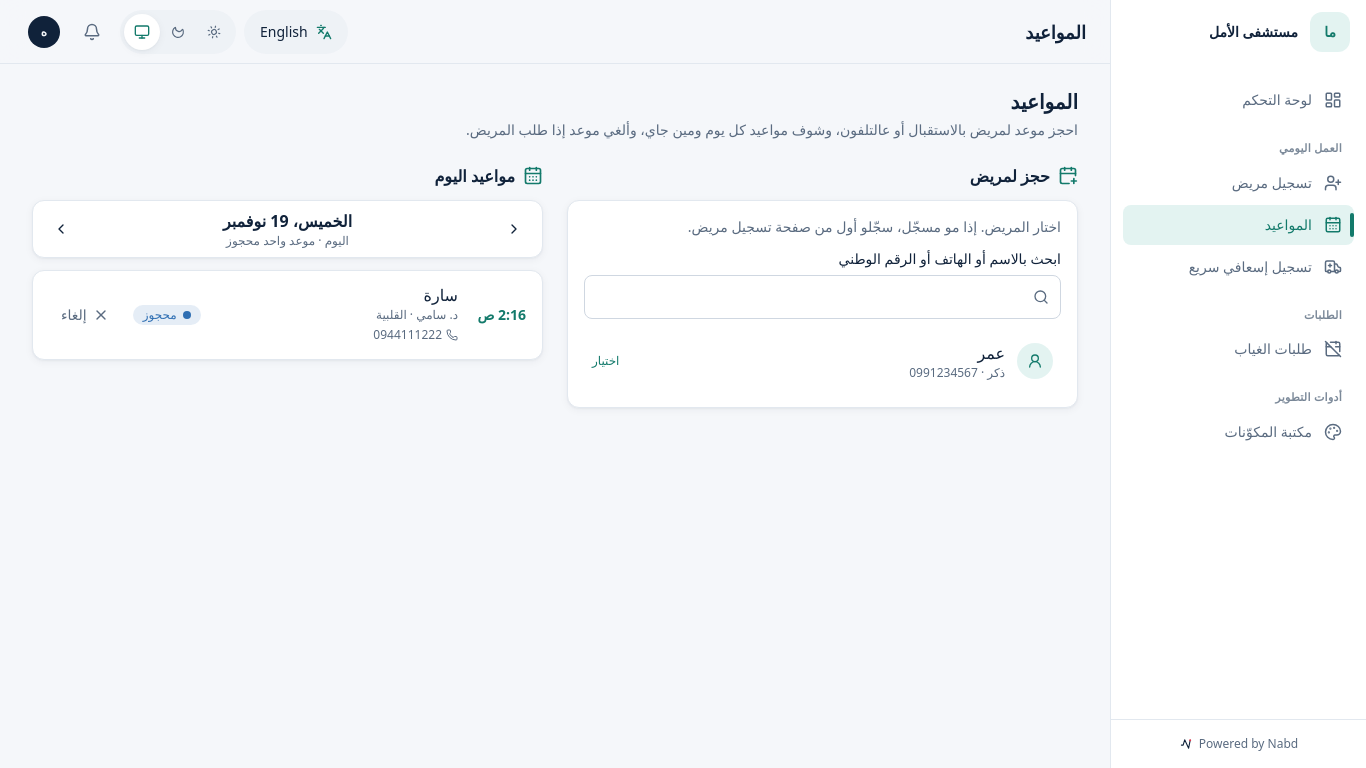
Test: DeskAppointmentsPage (task 4.2) › lists the day with who is coming, and cancels a visit
Expected: the list item "2:16 ص سارة د. سامي · القلبية 0944111222 محجوز إلغاء" is shown, [33,271,542,359]
Click the button "إلغاء": (85, 315) [49,297,121,333]
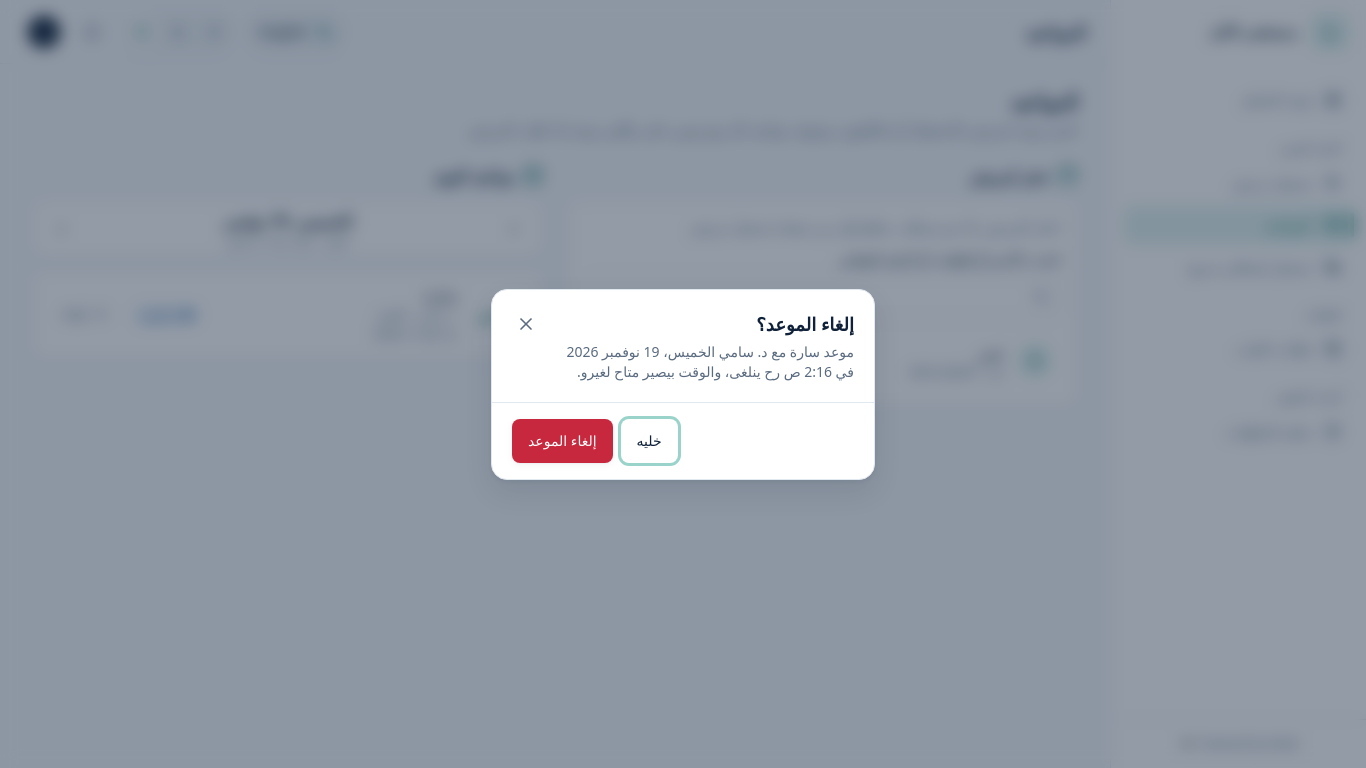
Expected: the dialog shows "موعد سارة مع د. سامي", [566,342,854,380]
Click the button "إلغاء الموعد": (562, 440) [512,418,613,462]
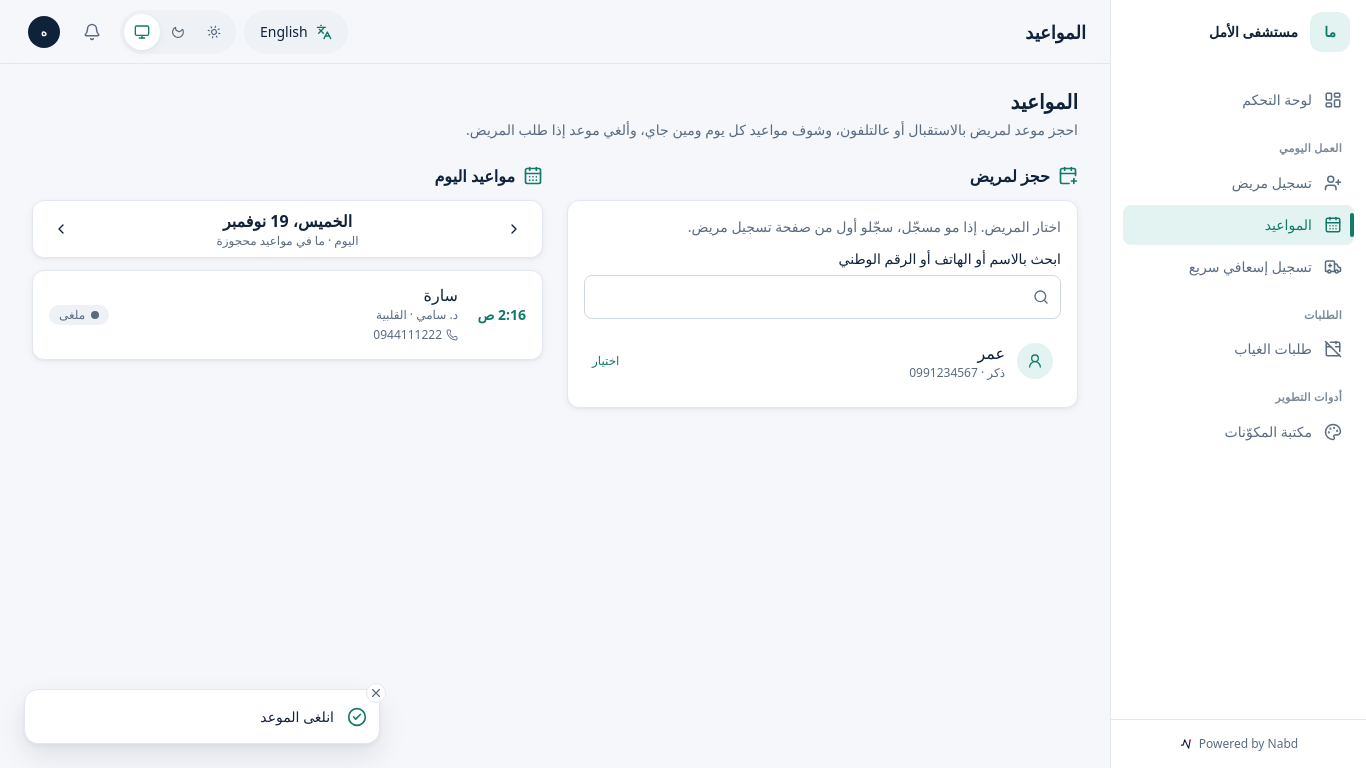
Expected: the text "ملغى" is shown, [49,305,109,325]
The next day is empty.
Click the button named "اليوم اللي بعد": (61, 229) [41,211,81,247]
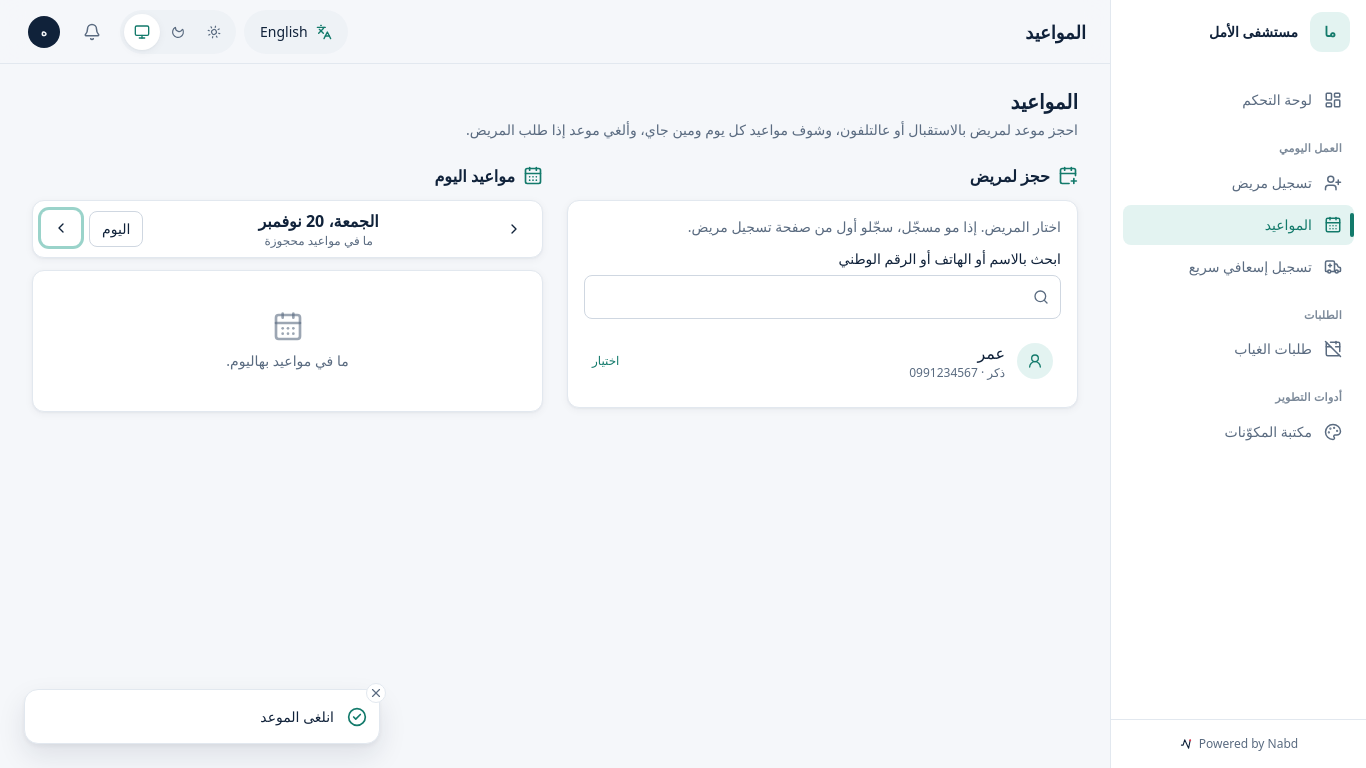
Expected: the text "ما في مواعيد بهاليوم." is shown, [32,270,543,412]
Click the button "اليوم": (116, 229) [89,211,143,247]
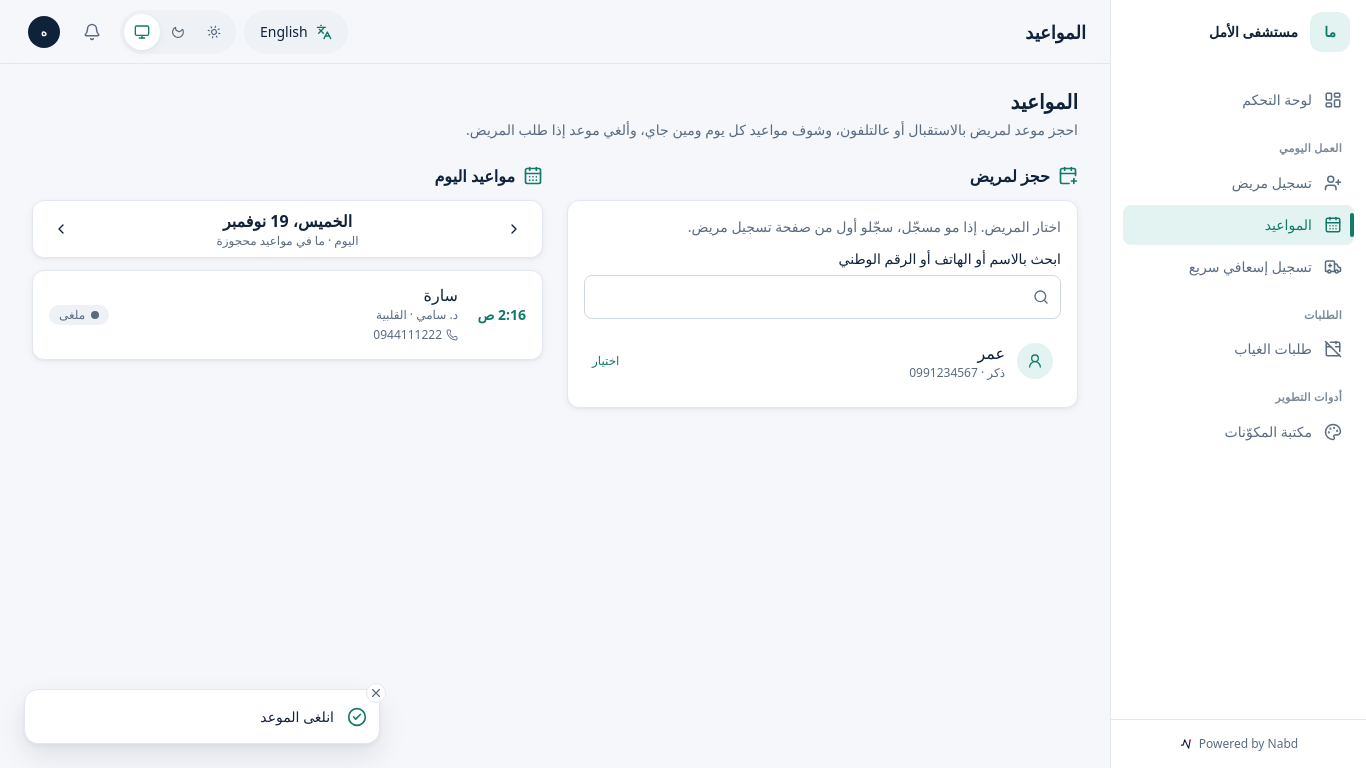
Expected: the list named "مواعيد هاليوم" is shown, [33,271,542,359]
